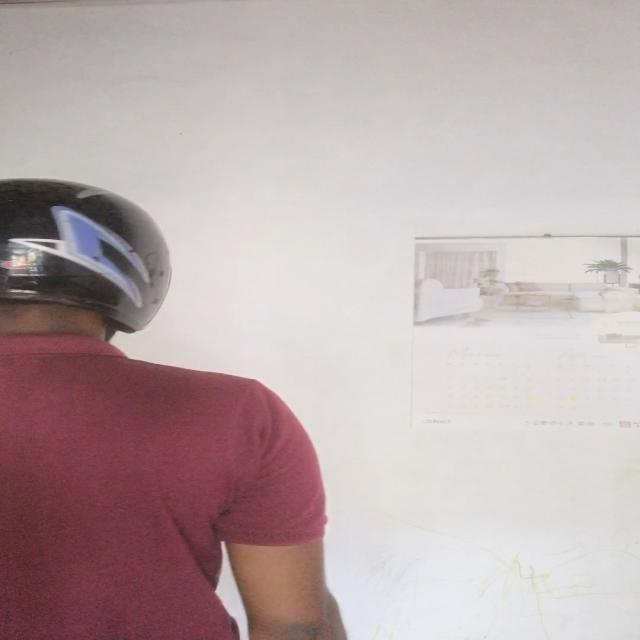Helmet_Wearer: (0, 170, 194, 372)
